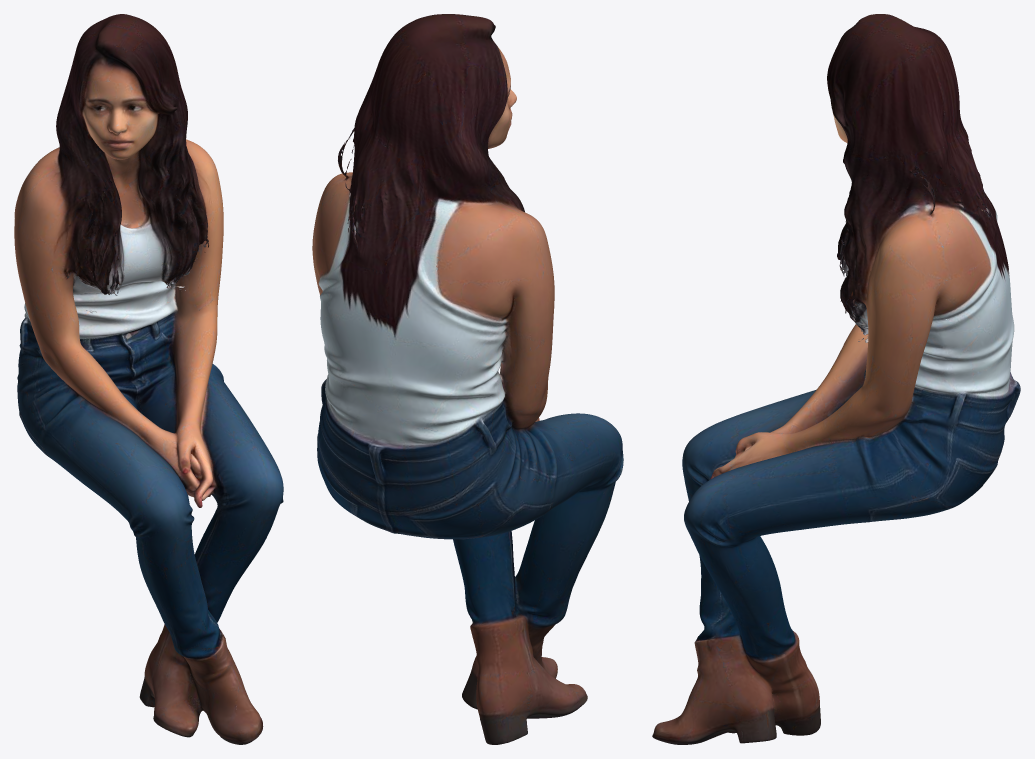
The model's file is sitQuiet.glb.
3 renders of one model, left to right at view 1: azimuth 30°, elevation 25°; view 2: azimuth 150°, elevation 25°; view 3: azimuth 270°, elevation 25°, orthographic. The views are drawn at different scales.
Visible parts, largest first — view 1: Object_5, Object_6, Object_7; view 2: Object_6, Object_5, Object_7; view 3: Object_6, Object_5, Object_7.
Part boxes in pixels (box(x1,y1,x2,y2)): Object_5: box(54, 19, 283, 744); Object_6: box(14, 14, 229, 466); Object_7: box(19, 23, 223, 474); Object_6: box(312, 14, 574, 539); Object_5: box(361, 14, 623, 744); Object_7: box(402, 14, 574, 510); Object_6: box(829, 14, 1020, 523); Object_5: box(652, 29, 985, 744); Object_7: box(831, 16, 913, 523).
Size of the model in its own units: 0.6052 by 1.9 by 0.889.
Materials: 1 (1 with a texture image).
